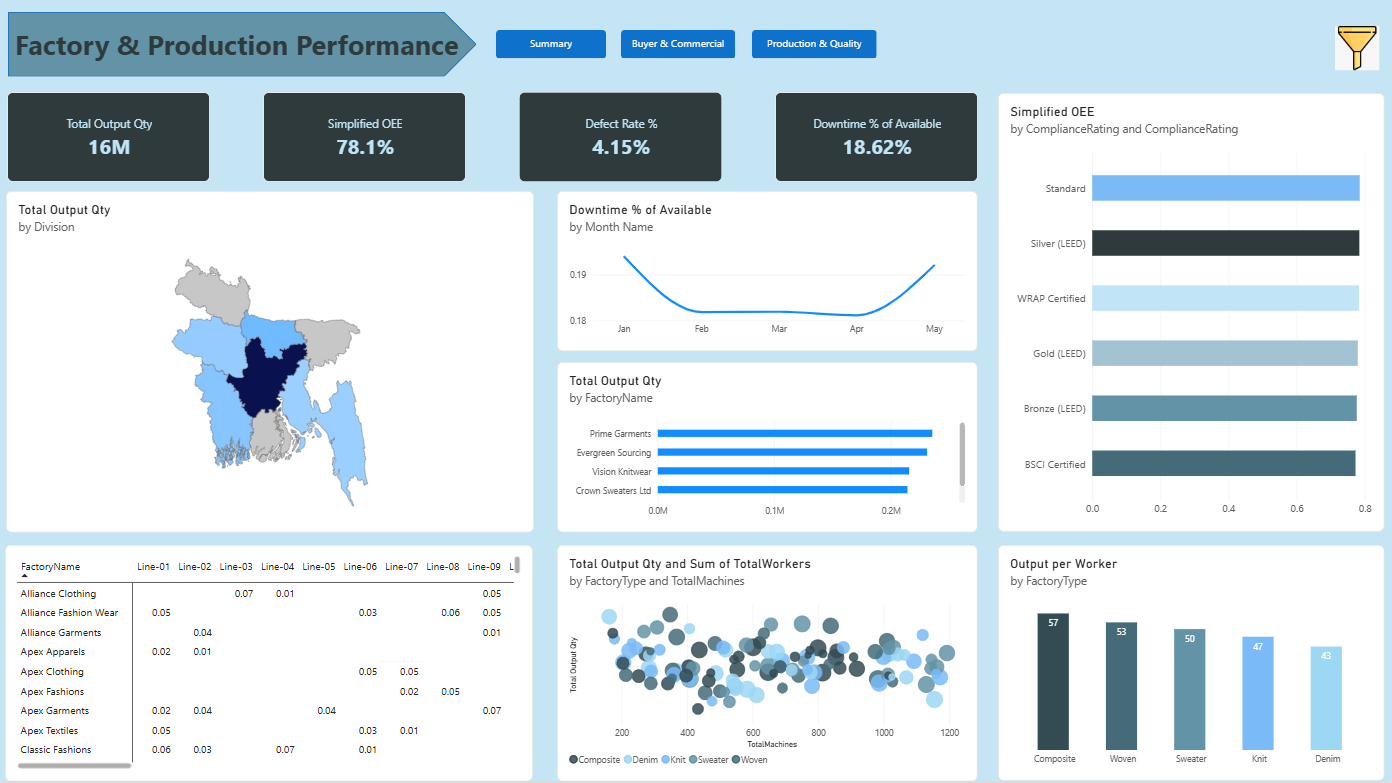

What the dashboard file says about the page in this screenshot:
{"tool":"powerbi","page":{"name":"Fact&Prod","canvas":[1920,1080],"ordinal":0},"visuals":[{"type":"cardVisual","fields":{"Data":["Query1.Total Output Qty"]},"box":[9.3,129.8,280.1,124],"z":0},{"type":"cardVisual","fields":{"Data":["Dashboard1.Simplified OEE"]},"box":[362.6,129.8,280.1,124],"z":1000},{"type":"cardVisual","fields":{"Data":["Dashboard1.Downtime % of Available"]},"box":[1069.3,129.8,280.1,124],"z":2000},{"type":"cardVisual","fields":{"Data":["Query1.Defect Rate %"]},"box":[716,129.8,280.1,124],"z":3000},{"type":"shapeMap","fields":{"Category":["DimFactory1.Division"],"Value":["Query1.Total Output Qty"]},"box":[8,266,727.5,470.8],"z":4000},{"type":"shape","box":[11.7,19,646.3,89],"z":5000},{"type":"textbox","box":[20.4,37.9,623,51.1],"z":6000},{"type":"clusteredBarChart","fields":{"Category":["DimFactory1.FactoryName"],"Y":["Query1.Total Output Qty"]},"box":[768.8,501.4,579.9,235.4],"z":7000},{"type":"lineChart","fields":{"Category":["DimDate4.Month Name"],"Y":["Dashboard1.Downtime % of Available"]},"box":[768.8,266,579.9,220.8],"z":8000},{"type":"pivotTable","fields":{"Columns":["FactProduction5.MachineLine"],"Rows":["DimFactory1.FactoryName"],"Values":["Query1.Defect Rate %"]},"box":[7.5,754.2,727.9,325.8],"z":9000},{"type":"scatterChart","fields":{"Series":["DimFactory1.FactoryType"],"Size":["Sum(DimFactory1.TotalWorkers)"],"X":["DimFactory1.TotalMachines"],"Y":["Query1.Total Output Qty"]},"box":[768.8,754.1,579.9,325.9],"z":10000},{"type":"barChart","fields":{"Category":["DimFactory1.ComplianceRating"],"Series":["DimFactory1.ComplianceRating"],"Y":["Dashboard1.Simplified OEE"]},"box":[1376.6,130.7,533,605.5],"z":11000},{"type":"columnChart","fields":{"Category":["DimFactory1.FactoryType"],"Y":["Dashboard1.Output per Worker"]},"box":[1376.6,754.3,533,324.7],"z":12000},{"type":"actionButton","box":[684.3,43.8,151.7,39.4],"z":15000,"group":"g1"},{"type":"actionButton","box":[856.5,43.8,157.6,39.4],"z":16000,"group":"g1"},{"type":"actionButton","box":[1037.4,43.8,172.2,39.4],"z":17000,"group":"g1"},{"type":"image","box":[1834.5,38.6,74.5,60.7],"z":18000},{"type":"group","id":"g1","title":"Group 1","box":[684.3,43.8,525.2,39.4],"z":19001}]}

Visuals, with their boxes in screenshot pixels (x1, y1, x2, y2), scaled from the page's 1920x1080 canvas onto the 1392x783 screenshot:
cardVisual - Query1.Total Output Qty: region(7, 94, 210, 184)
cardVisual - Dashboard1.Simplified OEE: region(263, 94, 466, 184)
cardVisual - Dashboard1.Downtime % of Available: region(775, 94, 978, 184)
cardVisual - Query1.Defect Rate %: region(519, 94, 722, 184)
shapeMap - DimFactory1.Division x Query1.Total Output Qty: region(6, 193, 533, 534)
shape: region(8, 14, 477, 78)
textbox: region(15, 27, 466, 65)
clusteredBarChart - DimFactory1.FactoryName x Query1.Total Output Qty: region(557, 364, 978, 534)
lineChart - DimDate4.Month Name x Dashboard1.Downtime % of Available: region(557, 193, 978, 353)
pivotTable - FactProduction5.MachineLine x DimFactory1.FactoryName: region(5, 547, 533, 782)
scatterChart - DimFactory1.FactoryType x Sum(DimFactory1.TotalWorkers): region(557, 547, 978, 782)
barChart - DimFactory1.ComplianceRating x DimFactory1.ComplianceRating: region(998, 95, 1384, 534)
columnChart - DimFactory1.FactoryType x Dashboard1.Output per Worker: region(998, 547, 1384, 782)
actionButton: region(496, 32, 606, 60)
actionButton: region(621, 32, 735, 60)
actionButton: region(752, 32, 877, 60)
image: region(1330, 28, 1384, 72)
"Group 1" group: region(496, 32, 877, 60)
